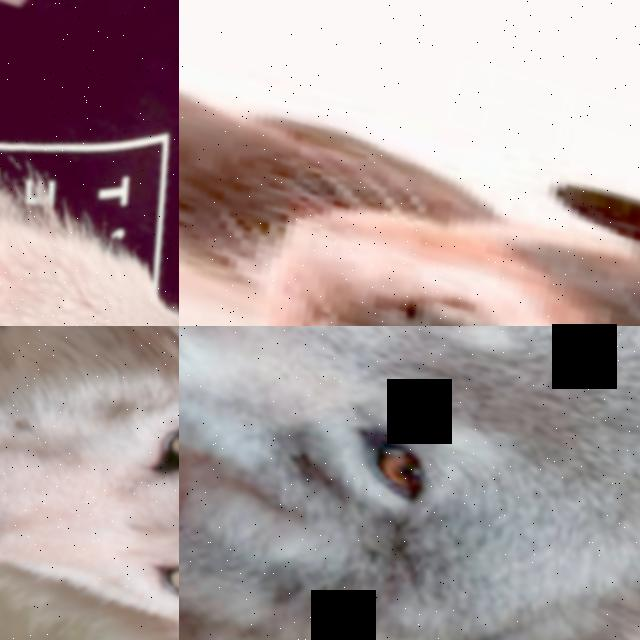dog: (179, 0, 640, 326)
wolf: (179, 326, 640, 640), (0, 0, 179, 326), (0, 326, 179, 640)
